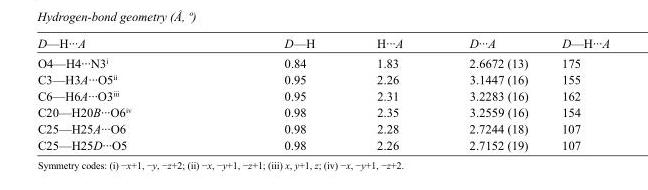table: (36, 36, 609, 151)
table column: (36, 36, 207, 151), (207, 36, 345, 151), (435, 36, 544, 151), (345, 36, 435, 151), (544, 36, 609, 151)
table row: (36, 53, 609, 71), (36, 36, 609, 53), (36, 103, 609, 120), (36, 71, 609, 87), (36, 87, 609, 103), (36, 120, 609, 136), (36, 136, 609, 151)
